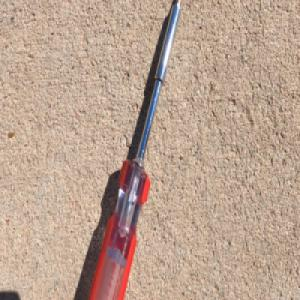Screwdriver: (87, 0, 182, 300)
